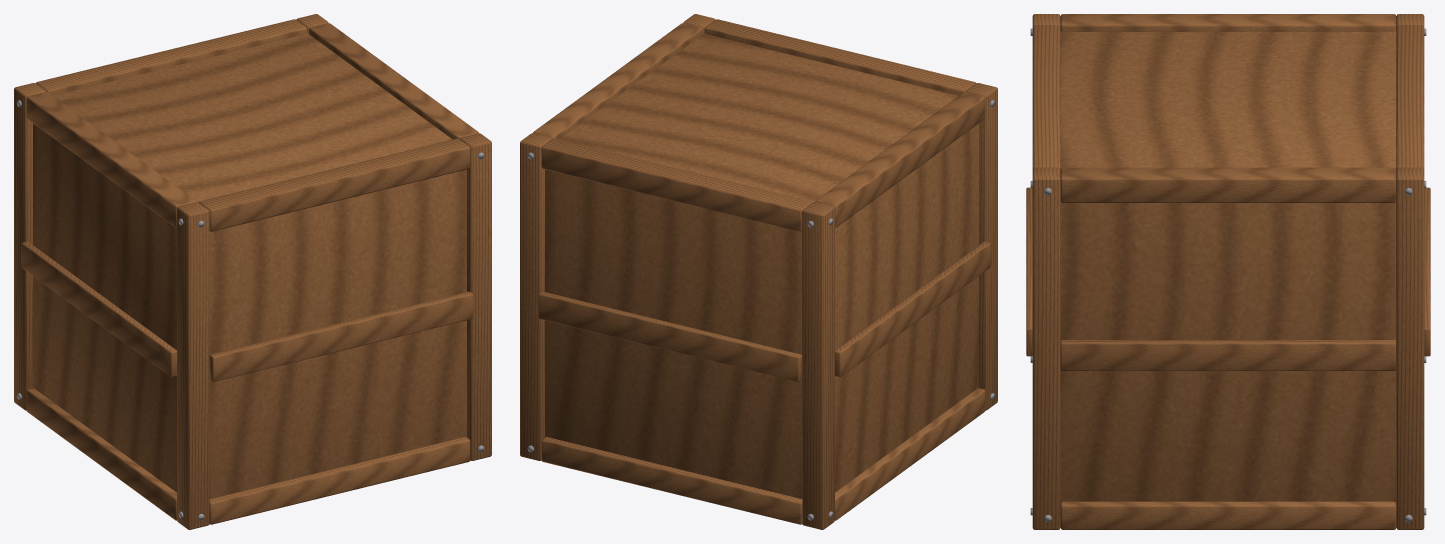
File: Crate.glb
3 views of the same model, side by side, from view 1: azimuth 30°, elevation 25°; view 2: azimuth 150°, elevation 25°; view 3: azimuth 270°, elevation 25° (orthographic). The views are drawn at different scales.
Parts seen in each view (by area): view 1: Crate; view 2: Crate; view 3: Crate.
Boxes of the visible parts, <box> form: Crate: <box>14,14,491,529</box>; Crate: <box>520,14,997,529</box>; Crate: <box>1026,14,1430,529</box>.
Bounding box in the file's own units: 2.6 × 2.5 × 2.6.
3 materials, 2 textured.
